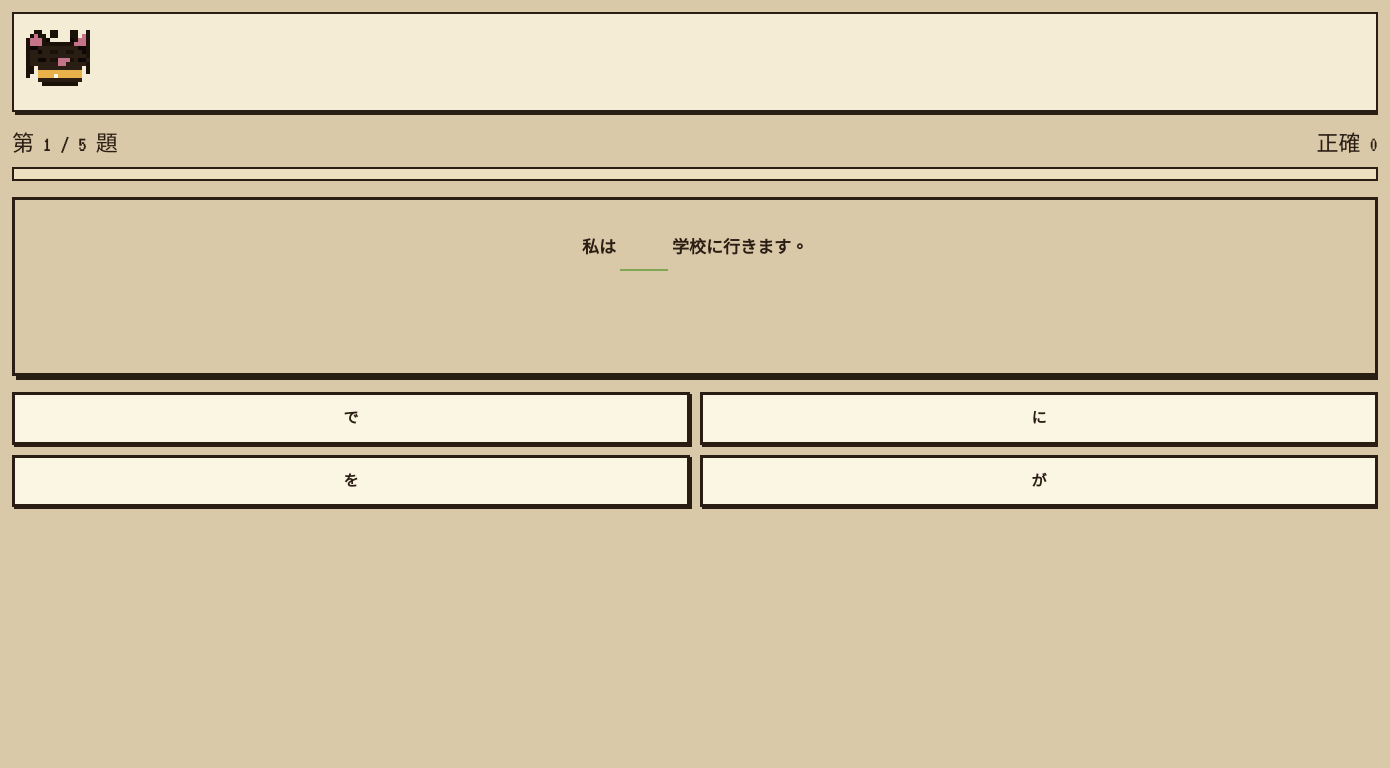
GrammarQuiz › shows "下一題" button after picking when autoNext is off
Click the button "で" at (351, 419), box x1=12 y1=392 x2=690 y2=445
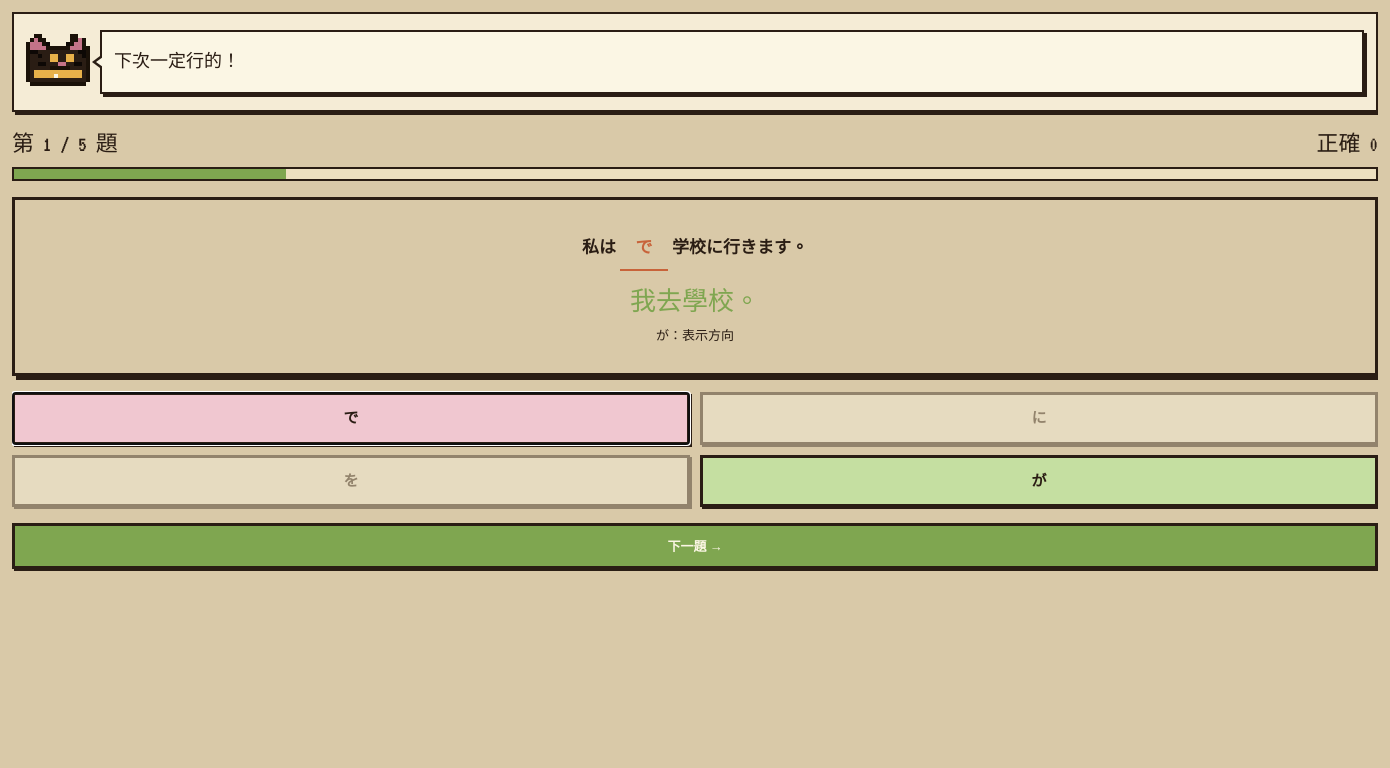
Expected: the button "下一題 →" is shown, x1=12 y1=523 x2=1378 y2=569
